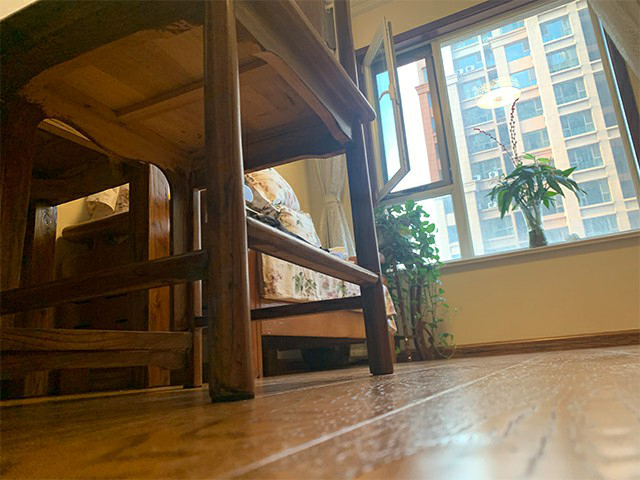sofa: (48, 166, 396, 395)
stool: (1, 1, 396, 401)
